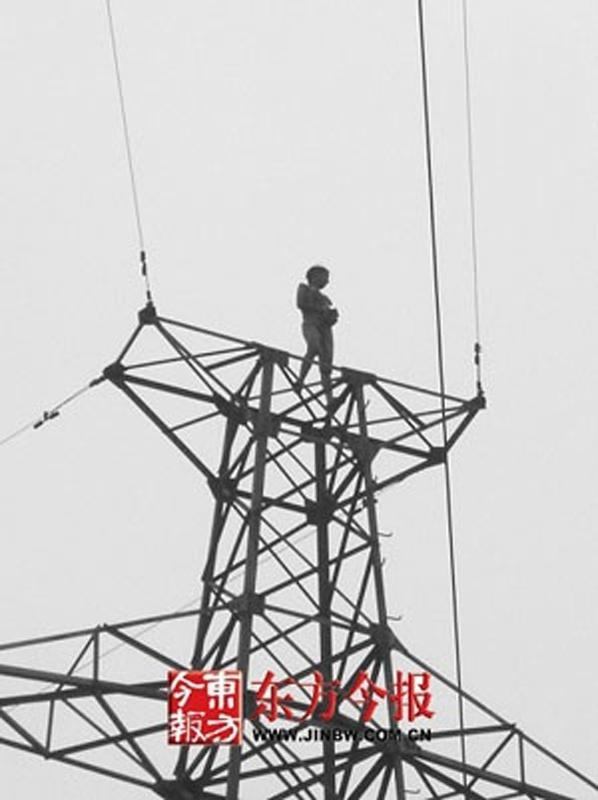power_tower: (90, 297, 523, 788)
